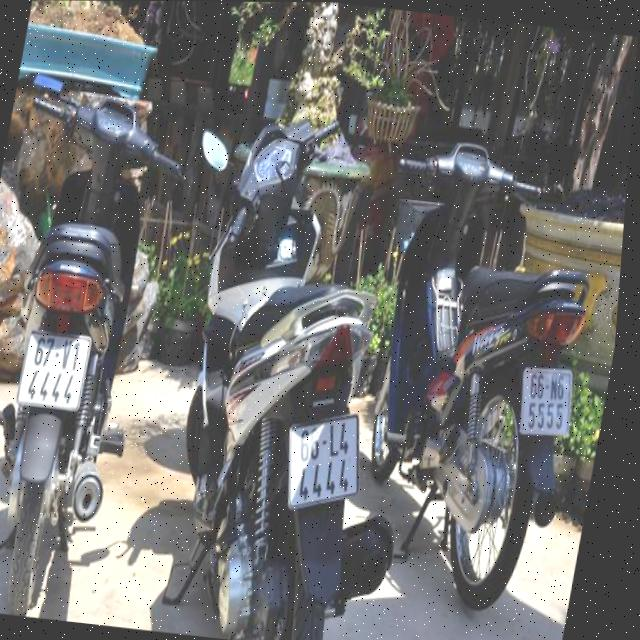motorcycle: (113, 89, 468, 640), (315, 133, 629, 632), (0, 54, 206, 625)
plate: (271, 401, 372, 516), (10, 320, 96, 419), (507, 352, 586, 446)
